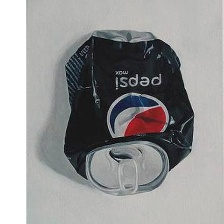can: (52, 22, 199, 202)
